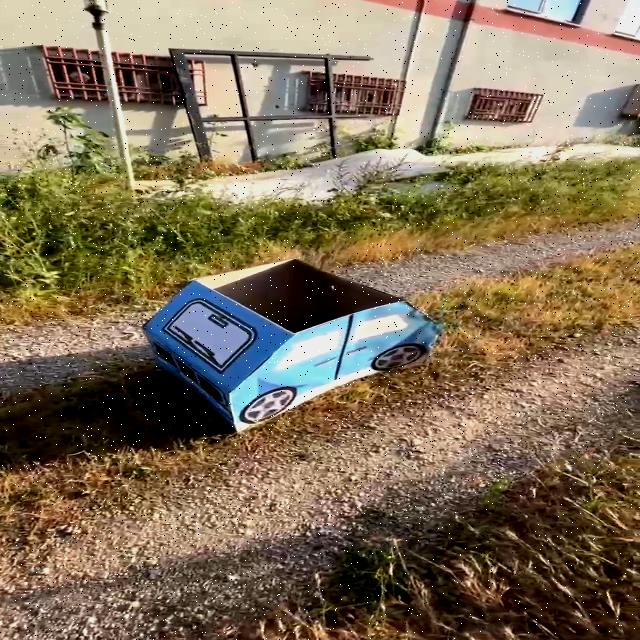blue_car: (104, 251, 472, 458)
